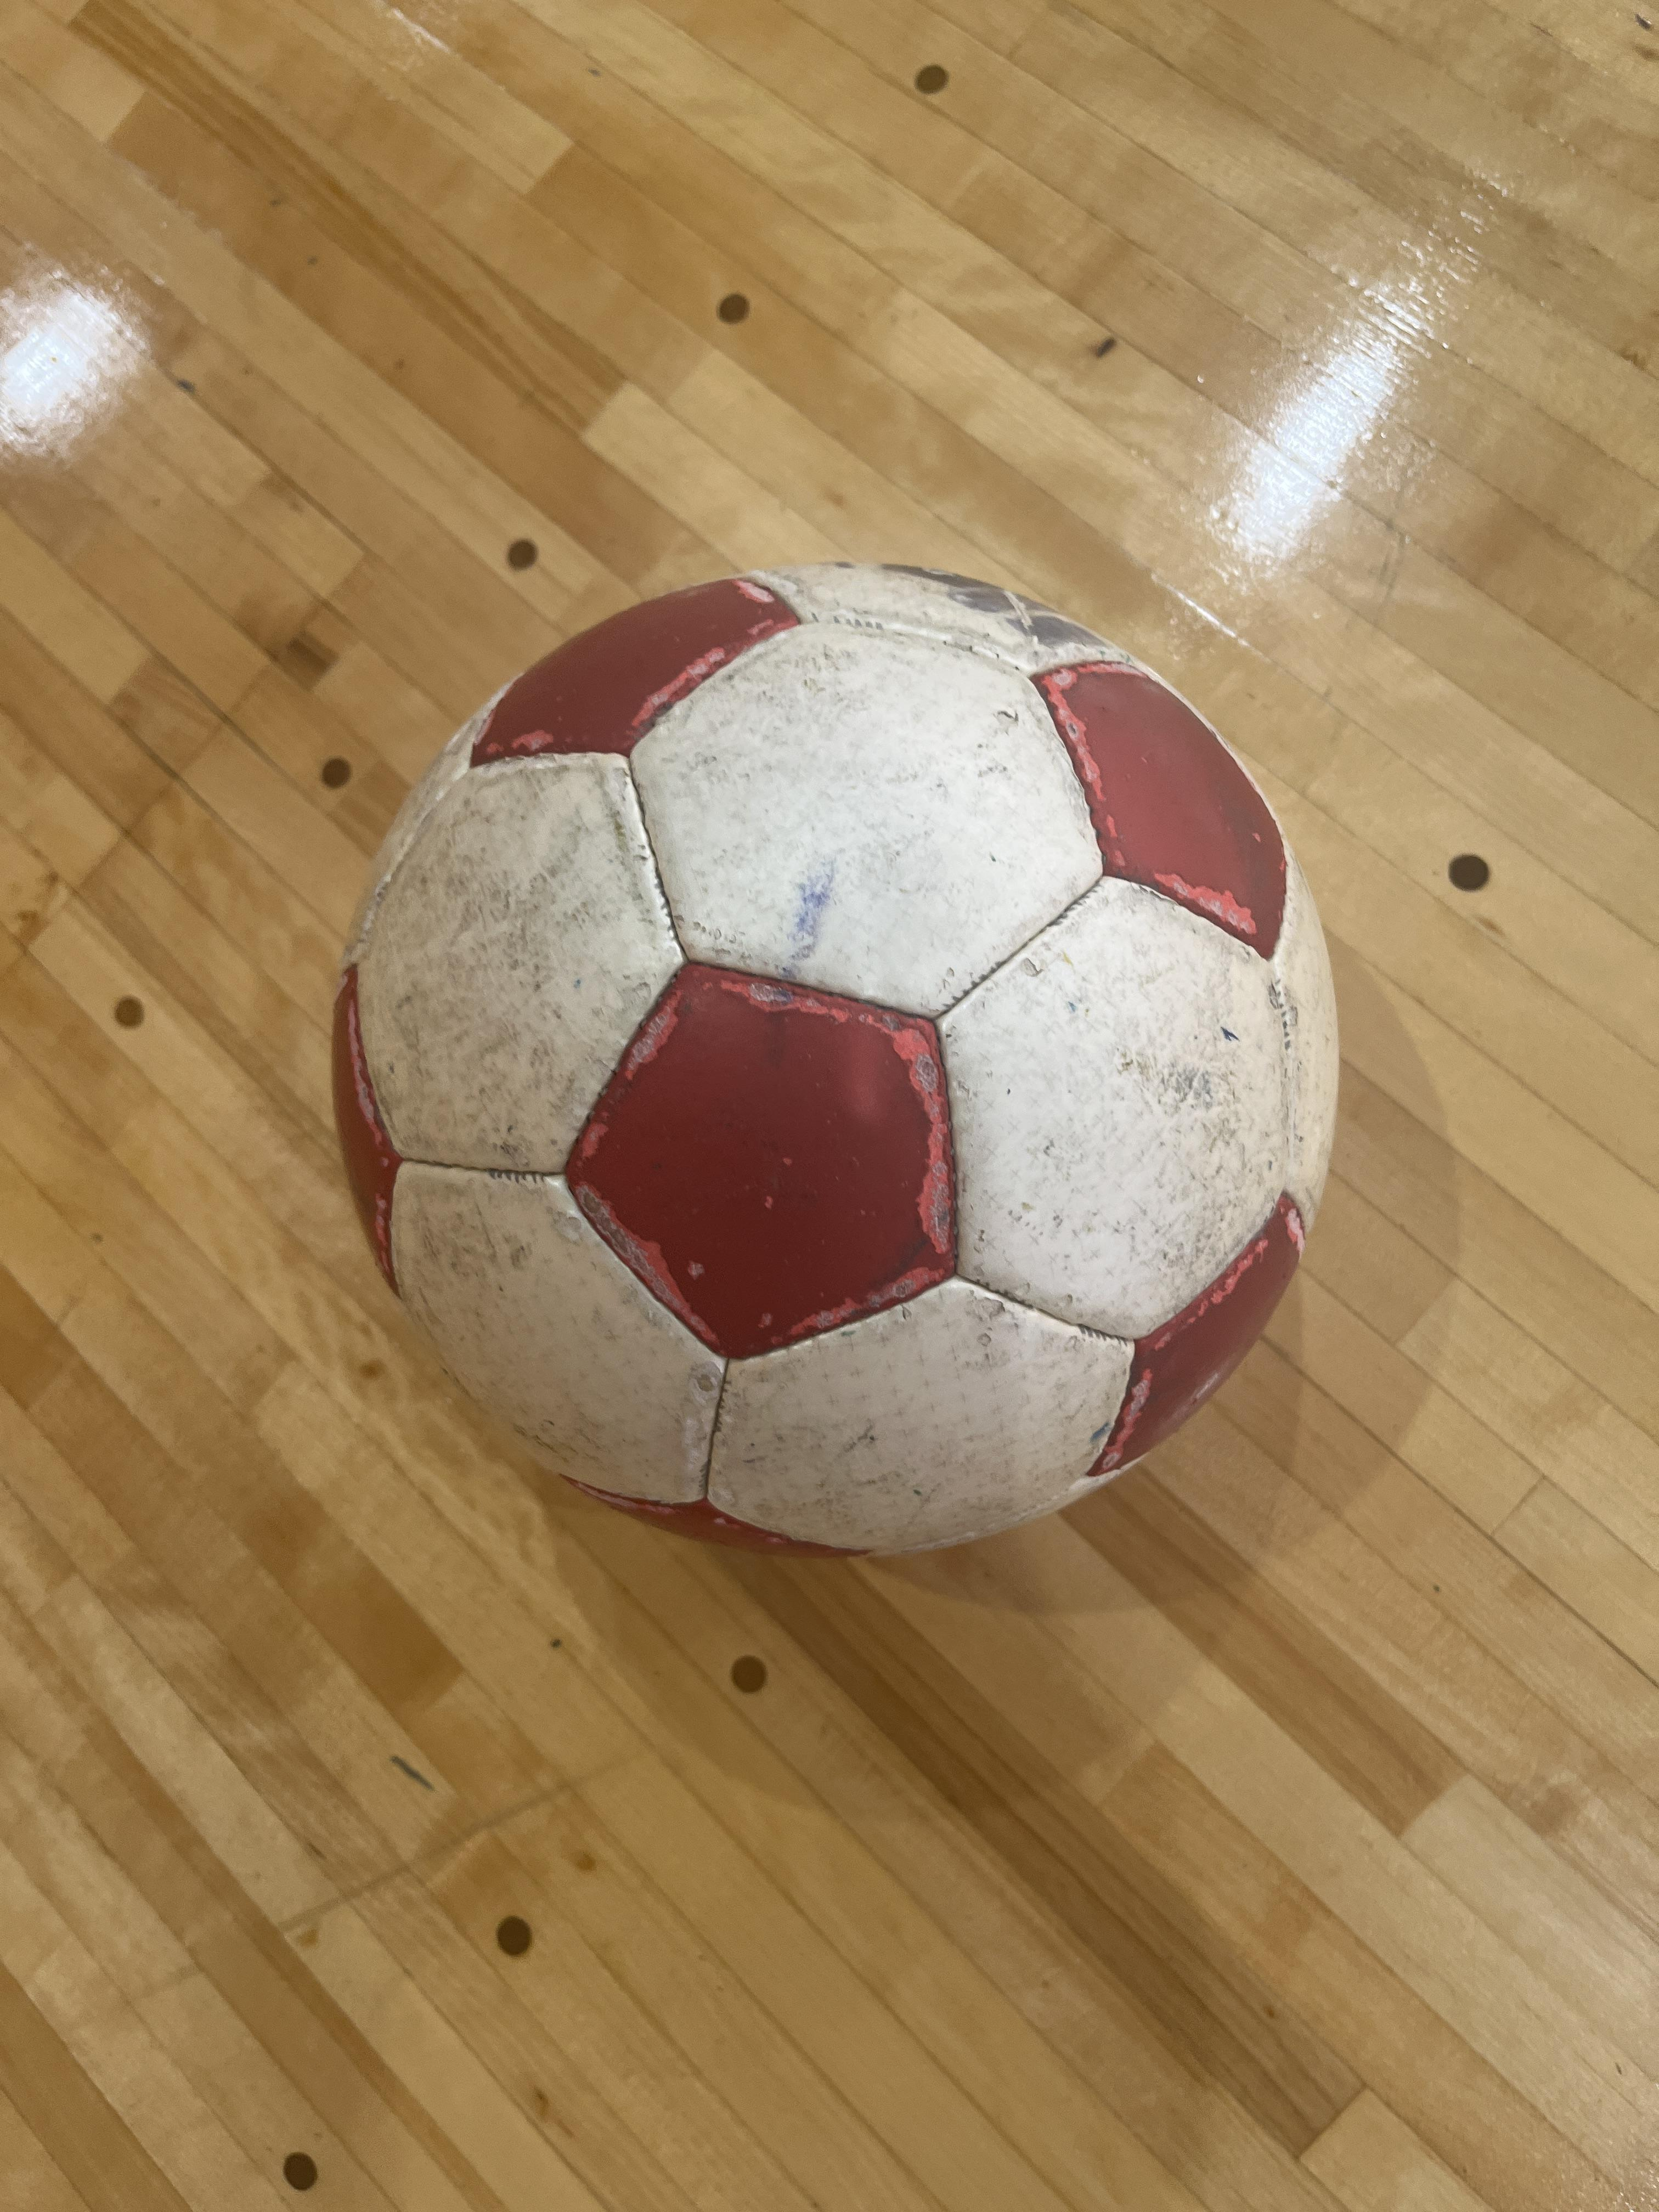Sports-Ball: (324, 559, 1352, 1555)
